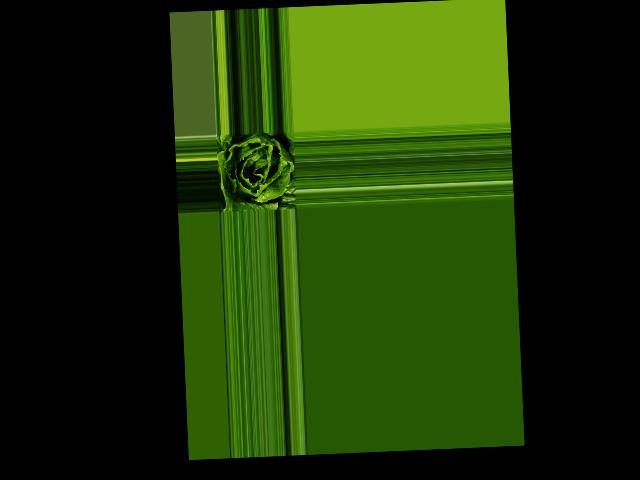lettuce: (216, 132, 296, 213)
